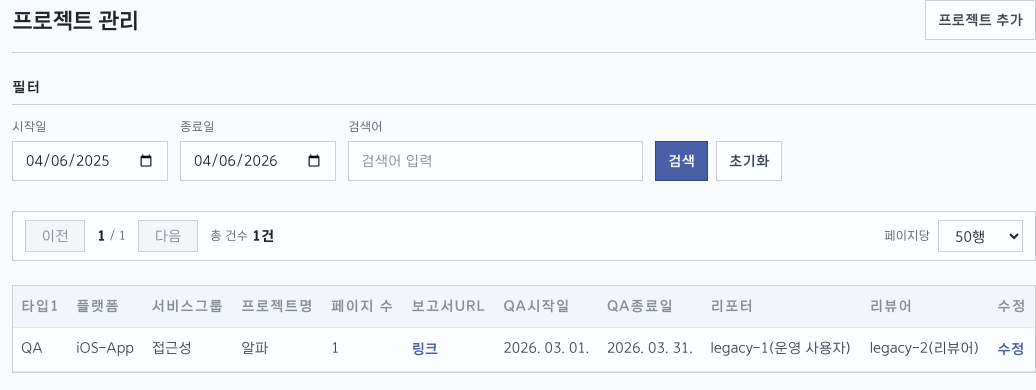
it: Projects routes › filters projects by the selected start and end date
Check: the text "알파" is shown, box left=233, top=328, right=323, bottom=371
Type "2026-04-01" into the date field labelled "시작일" at x=90, y=161, box left=12, top=141, right=168, bottom=181
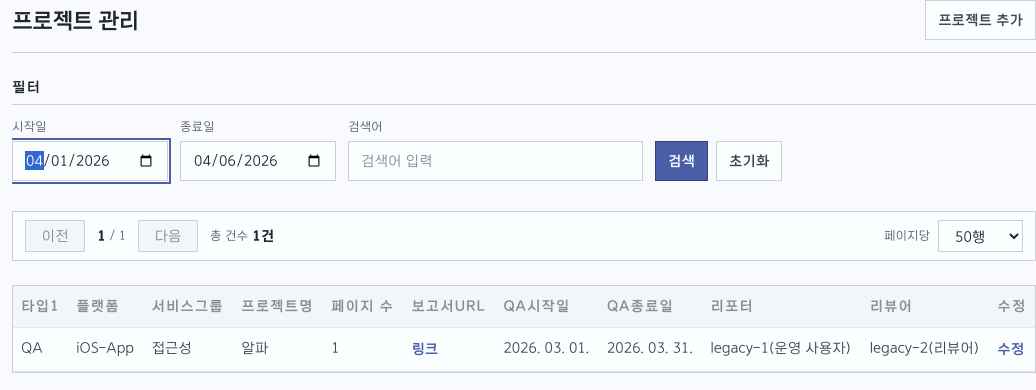
Type "2026-04-30" into the date field labelled "종료일" at x=258, y=161, box left=180, top=141, right=336, bottom=181
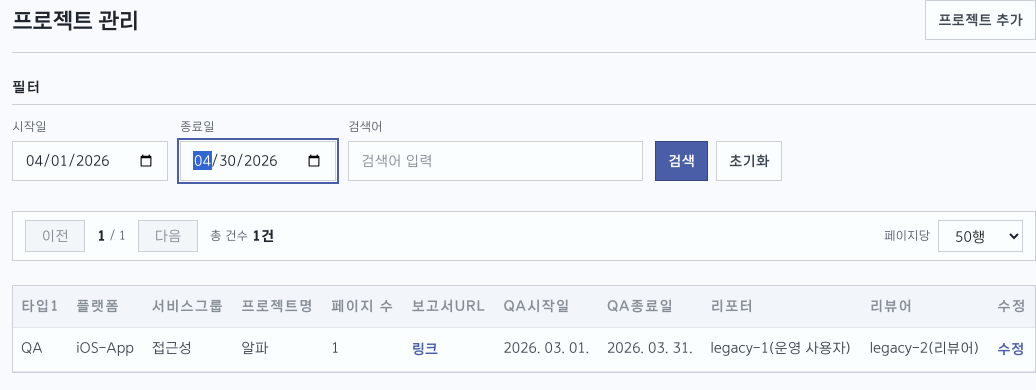
Click the button "검색" at x=681, y=161, box left=655, top=141, right=708, bottom=181
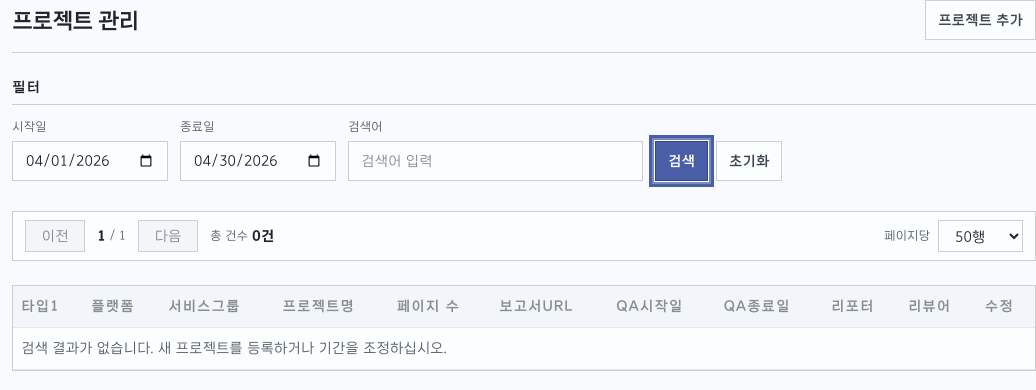
Check: the text "검색 결과가 없습니다. 새 프로젝트를 등록하거나 기간을 조정하십시오." is shown, box left=13, top=328, right=1035, bottom=369
